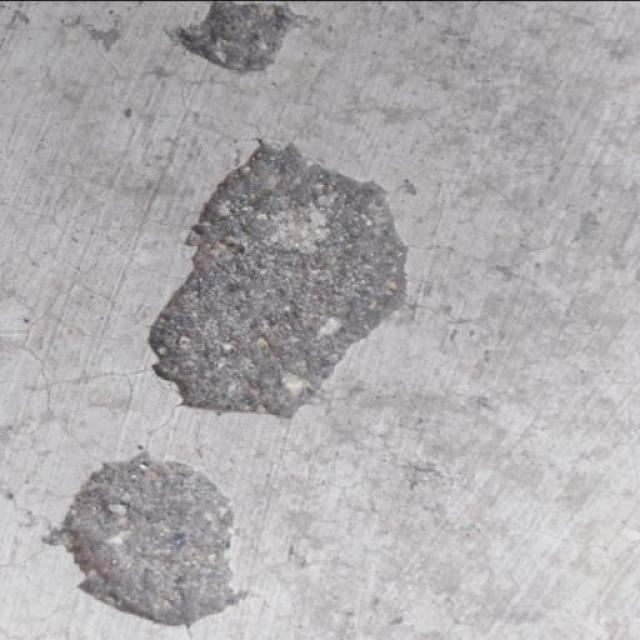D10: (145, 140, 405, 420), (44, 450, 242, 628), (166, 0, 290, 72)
